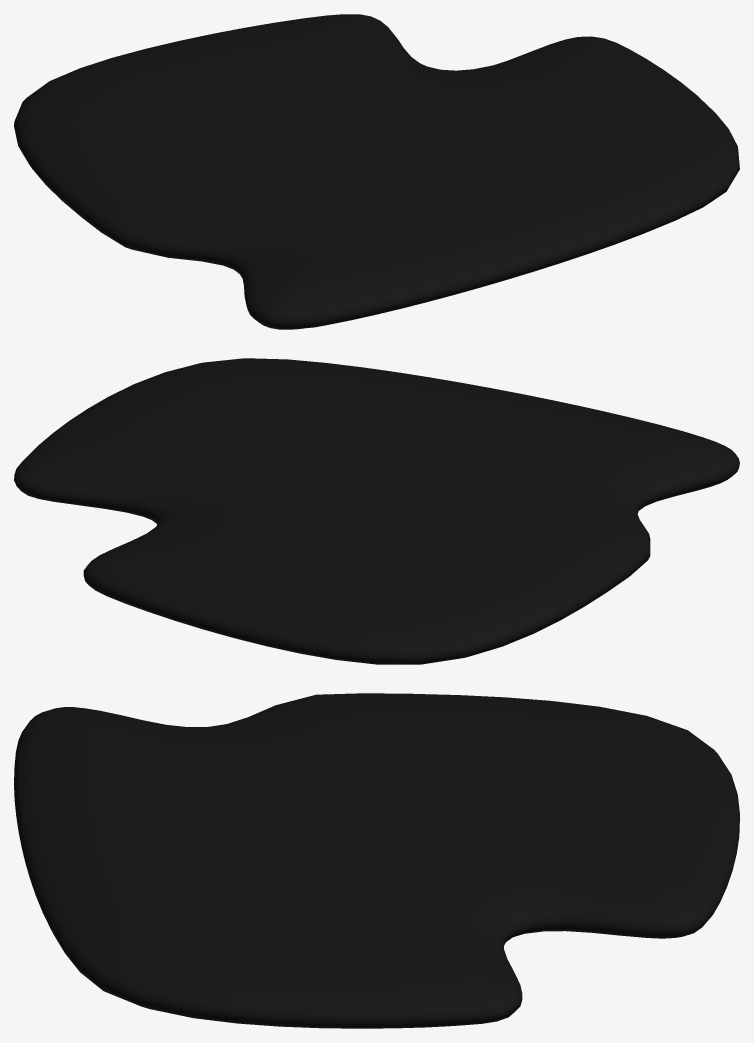
Rendered from static1.glb.
The picture shows the model from 3 angles, top to bottom: view 1: azimuth 30°, elevation 25°; view 2: azimuth 150°, elevation 25°; view 3: azimuth 270°, elevation 25°; orthographic projection. The views are drawn at different scales.
Visible parts, largest first — view 1: Remesh; view 2: Remesh; view 3: Remesh.
Part boxes in pixels (box(x1,y1,x2,y2)): Remesh: box(14, 14, 739, 329); Remesh: box(14, 358, 739, 664); Remesh: box(14, 693, 739, 1028).
Size of the model in its own units: 3.41 by 0.2243 by 3.25.
1 material, 1 textured.
